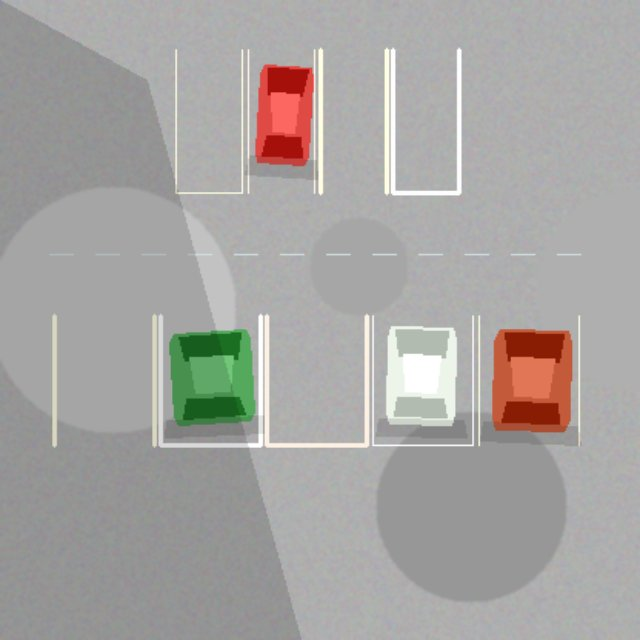space-empty: (54, 315, 154, 445), (266, 315, 366, 445), (175, 49, 242, 192), (320, 49, 386, 192), (392, 49, 458, 192)
space-occupied: (160, 315, 260, 445), (372, 315, 472, 445), (478, 315, 578, 445), (248, 49, 314, 192)
